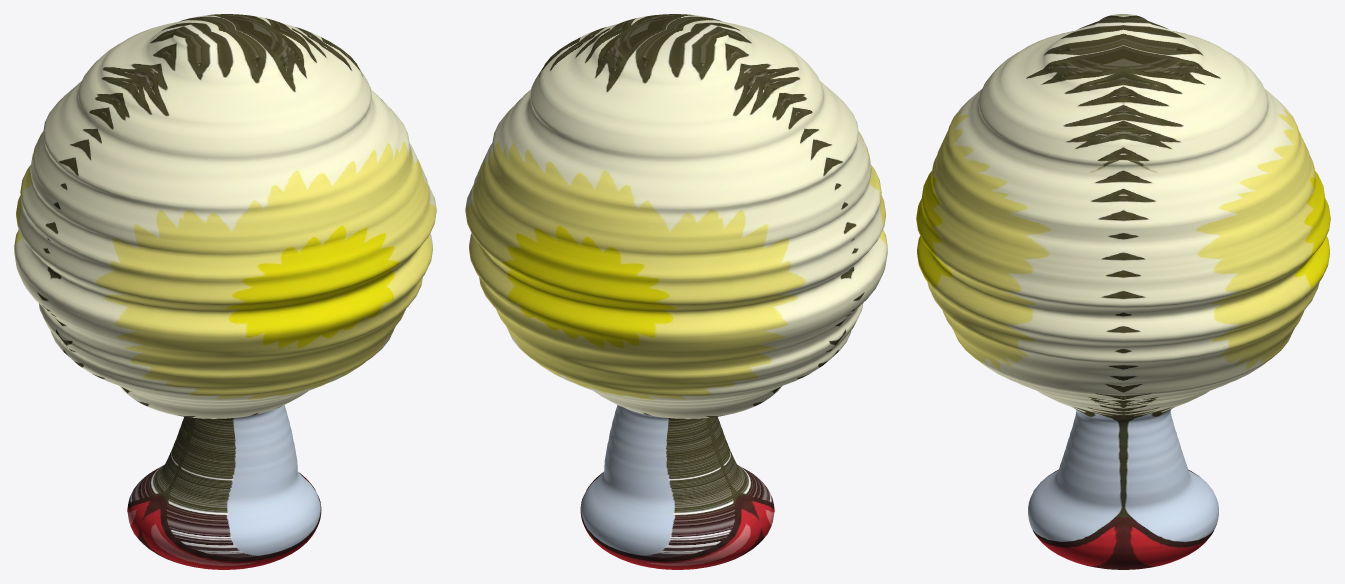
Rendered from snow_flower.glb.
The picture shows the model from 3 angles, left to right: view 1: azimuth 30°, elevation 25°; view 2: azimuth 150°, elevation 25°; view 3: azimuth 270°, elevation 25°; orthographic projection.
Visible parts, largest first — view 1: snow_flower; view 2: snow_flower; view 3: snow_flower.
Boxes of the visible parts, x1=… form: snow_flower: x1=14, y1=14, x2=436, y2=569; snow_flower: x1=465, y1=14, x2=887, y2=569; snow_flower: x1=916, y1=14, x2=1330, y2=569.
Size of the model in its own units: 0.9791 by 1.34 by 0.973.
Materials: 1 (1 with a texture image).
